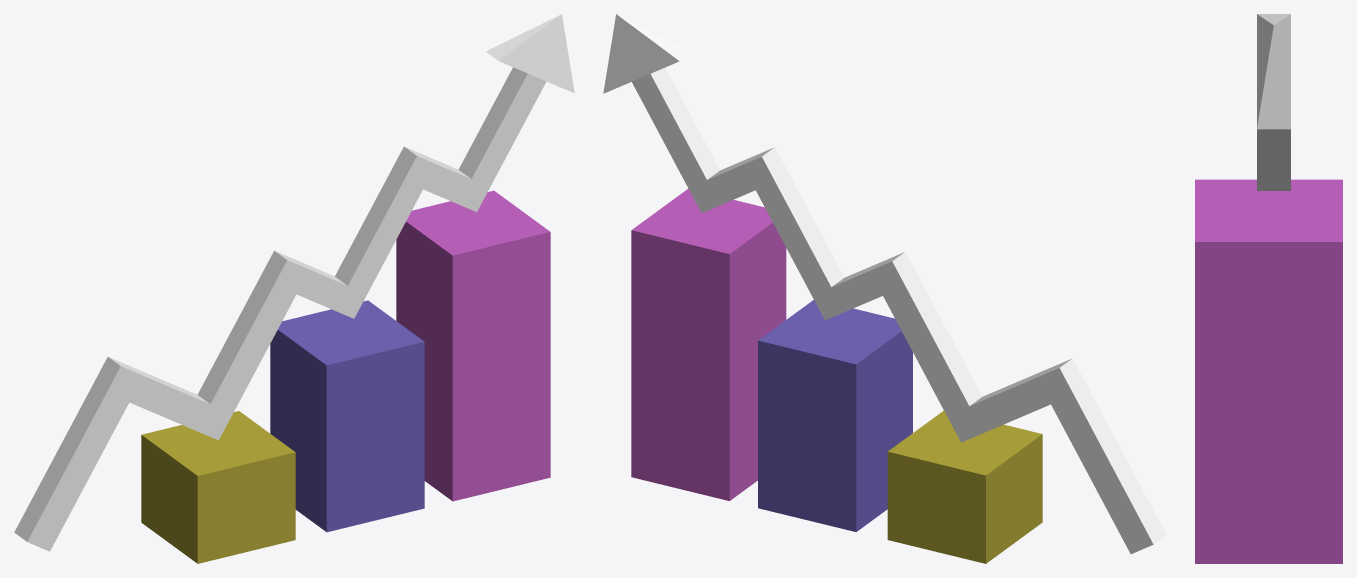
File: digital marketing.glb
The picture shows the model from 3 angles, left to right: view 1: azimuth 30°, elevation 25°; view 2: azimuth 150°, elevation 25°; view 3: azimuth 270°, elevation 25°; orthographic projection. The views are drawn at different scales.
Visible parts, largest first — view 1: Cube.002_0, Cube.003_0, Cube.001_0, Cube_0; view 2: Cube.002_0, Cube.003_0, Cube.001_0, Cube_0; view 3: Cube.002_0, Cube.003_0.
Boxes of the visible parts, x1=… form: Cube.002_0: x1=396, y1=190, x2=550, y2=501; Cube.003_0: x1=14, y1=14, x2=574, y2=551; Cube.001_0: x1=270, y1=300, x2=424, y2=532; Cube_0: x1=141, y1=411, x2=295, y2=563; Cube.002_0: x1=631, y1=188, x2=786, y2=500; Cube.003_0: x1=603, y1=14, x2=1166, y2=553; Cube.001_0: x1=758, y1=300, x2=912, y2=531; Cube_0: x1=887, y1=410, x2=1042, y2=563; Cube.002_0: x1=1195, y1=179, x2=1342, y2=563; Cube.003_0: x1=1257, y1=14, x2=1290, y2=190.
Bounding box in the file's own units: 3.63 × 2.74 × 0.648.
